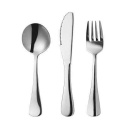fork: (78, 11, 108, 121)
